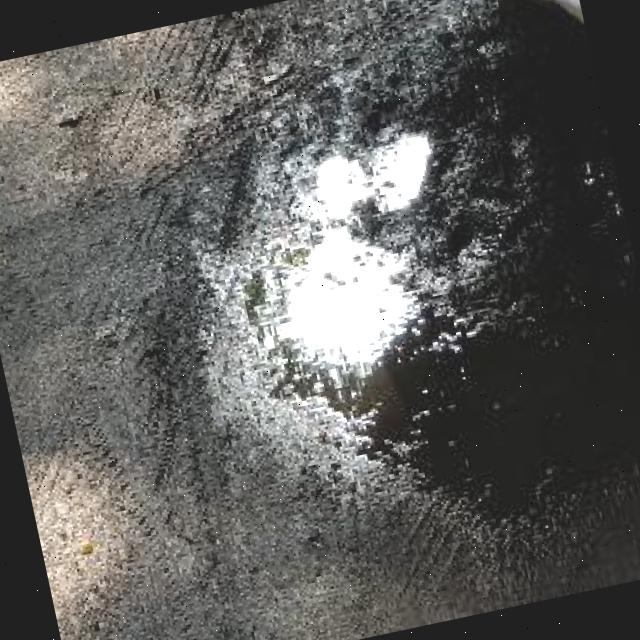stagnation: (162, 84, 552, 516)
